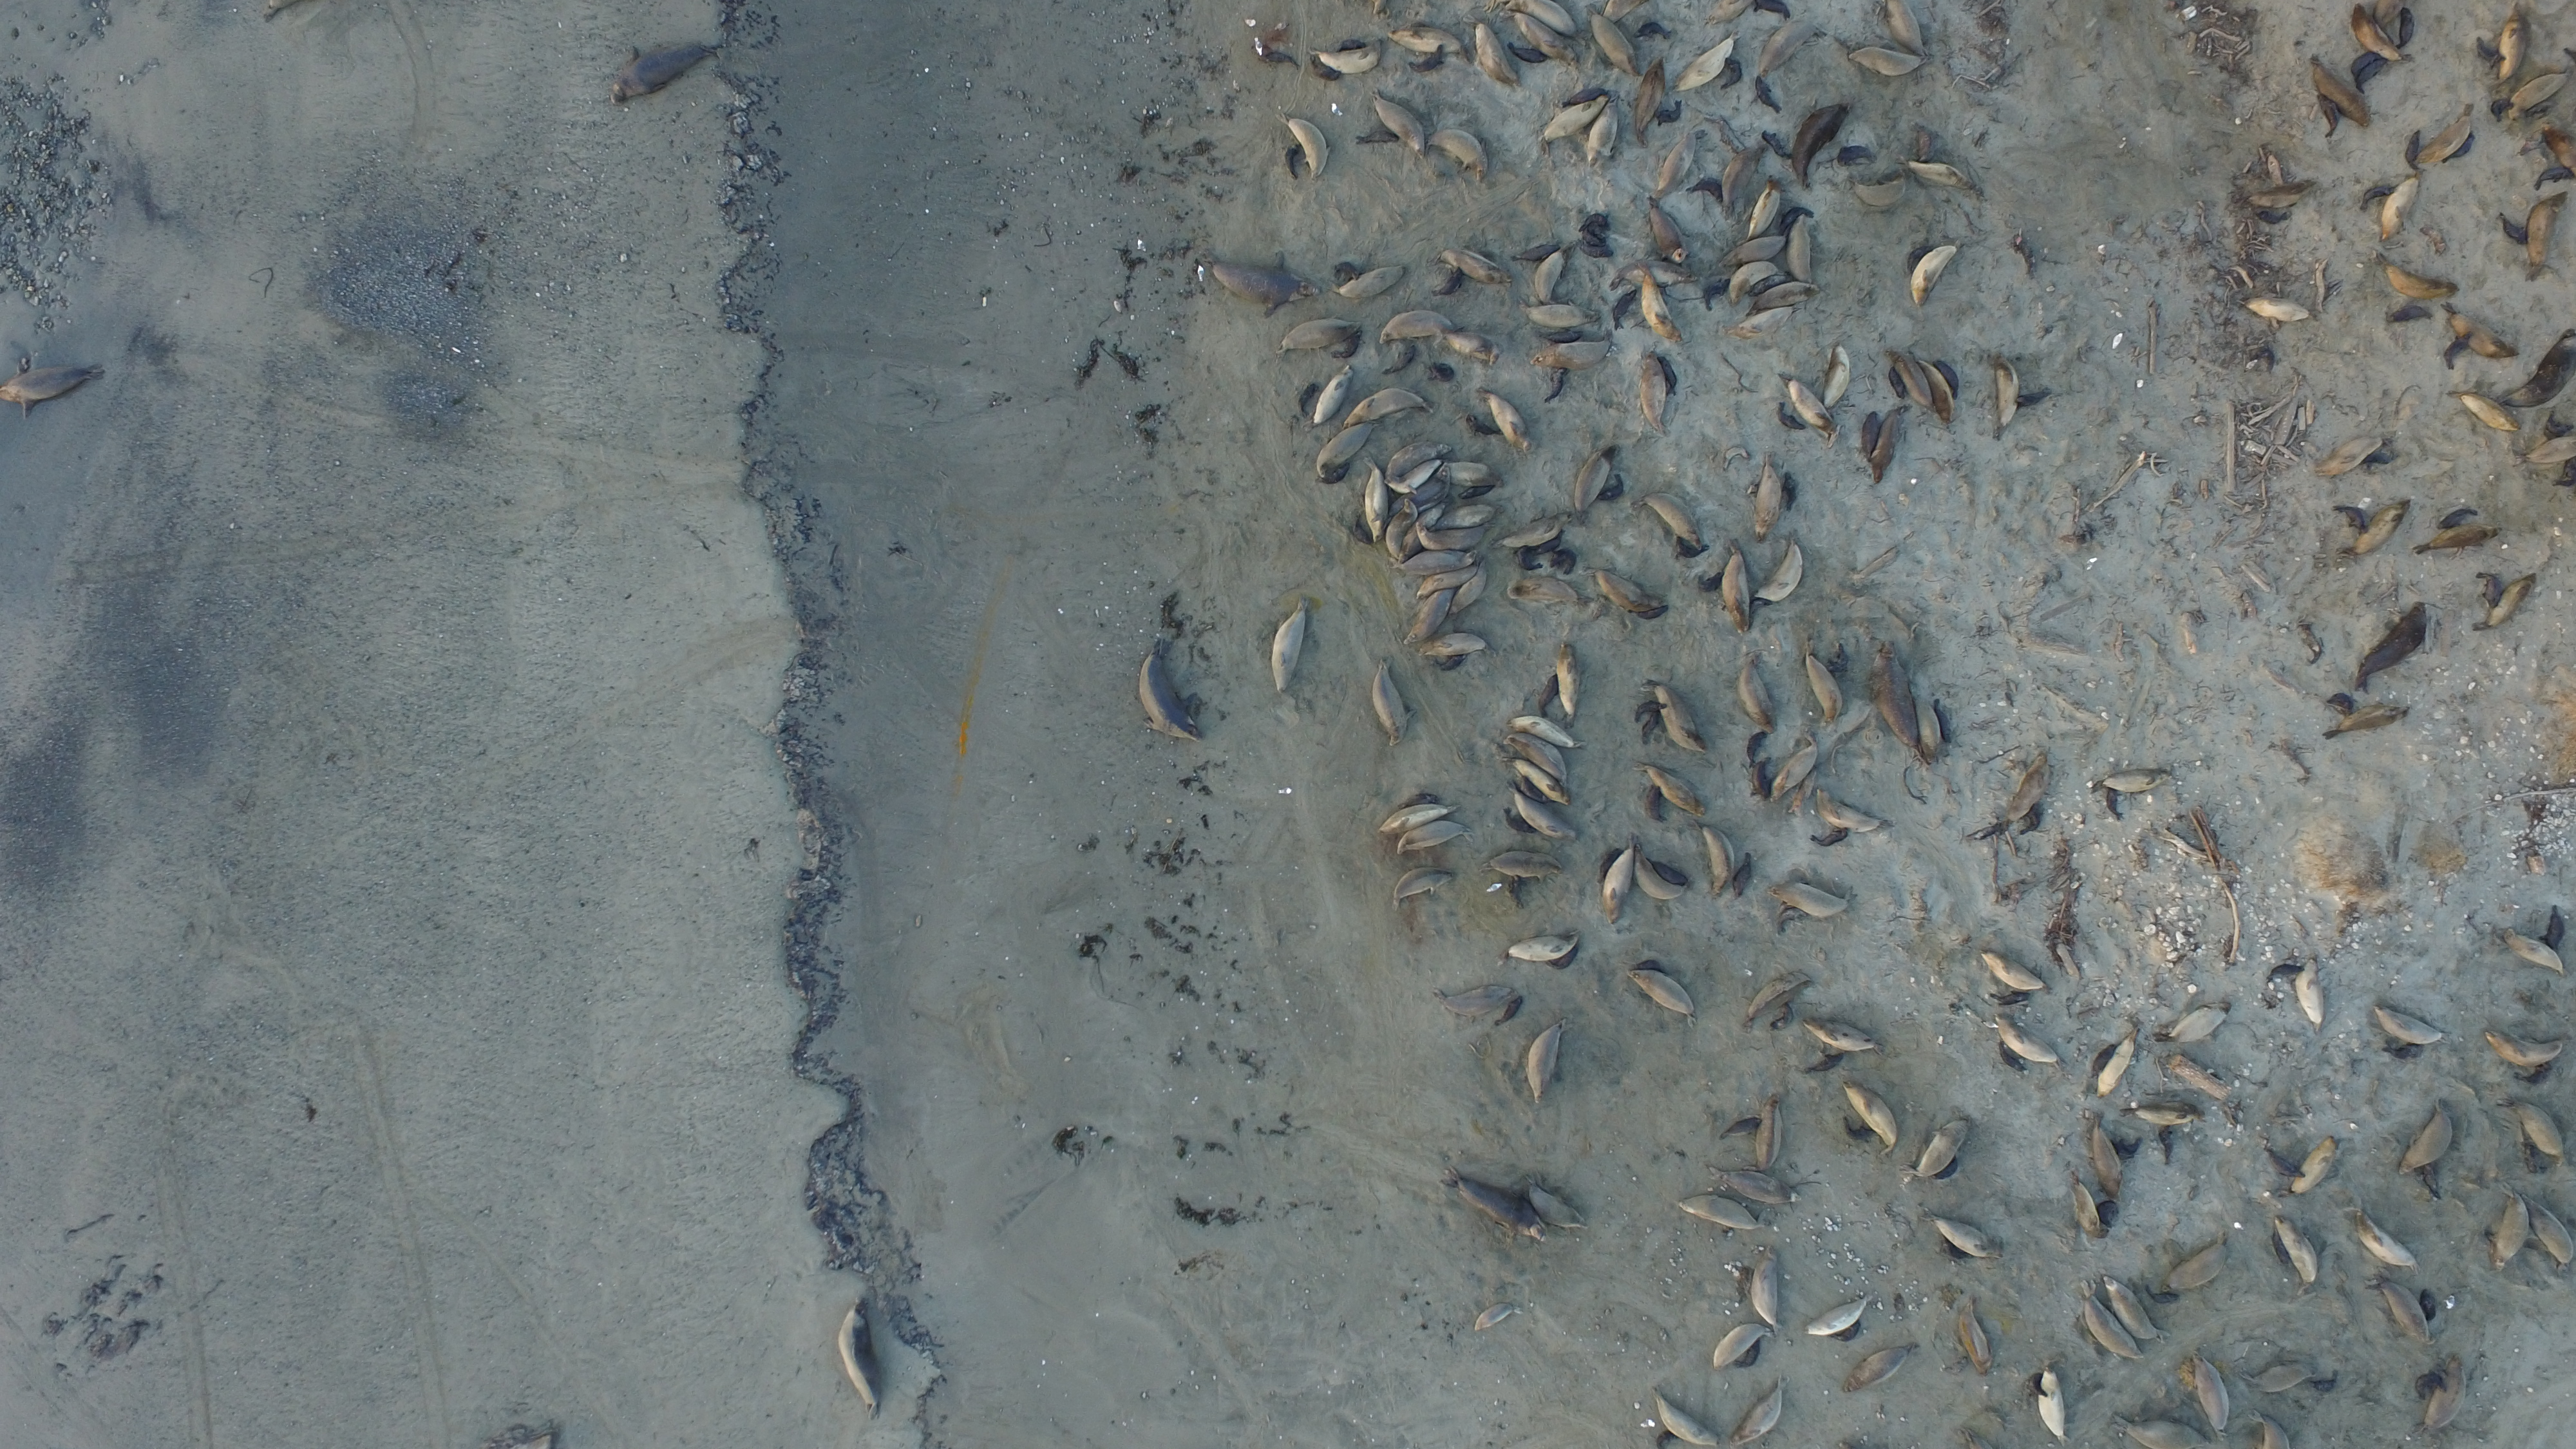adult male: (1125, 628, 1217, 755), (1435, 1164, 1548, 1249), (605, 37, 727, 108), (2350, 594, 2436, 694), (832, 1293, 895, 1428), (1203, 246, 1322, 317), (1867, 630, 1923, 764), (0, 354, 111, 421), (2503, 324, 2574, 412), (1794, 103, 1844, 189)
male juvenile / female juvenile / adult female: (2514, 1184, 2576, 1276), (2350, 1205, 2429, 1276), (2302, 51, 2373, 131), (2335, 494, 2415, 563), (2367, 249, 2463, 306), (2367, 1272, 2438, 1348), (1647, 1380, 1727, 1447), (2077, 1281, 2137, 1364), (2438, 301, 2521, 361), (2100, 1269, 2167, 1343), (2413, 1350, 2466, 1444), (2507, 1097, 2569, 1175), (2521, 188, 2569, 287), (1741, 964, 1812, 1030), (2396, 1097, 2452, 1178), (2319, 699, 2419, 745), (1270, 596, 1313, 702), (1369, 651, 1414, 752), (2473, 570, 2539, 637), (1522, 1177, 1596, 1235), (2410, 104, 2473, 172), (2162, 1231, 2233, 1292), (1840, 1341, 1920, 1394), (2480, 1023, 2569, 1070), (1674, 1196, 1773, 1238), (1730, 1376, 1792, 1444), (1661, 678, 1714, 755), (2282, 1129, 2339, 1201), (1847, 37, 1927, 88), (1624, 973, 1704, 1024), (2312, 430, 2392, 481), (2450, 386, 2525, 441), (2346, 2, 2408, 65), (2190, 1346, 2235, 1435), (1737, 649, 1783, 734), (2367, 1000, 2450, 1046), (1711, 1168, 1812, 1205), (2502, 924, 2564, 982), (2505, 67, 2569, 124), (2109, 1412, 2204, 1449), (2273, 1214, 2321, 1288), (1748, 547, 1819, 596), (2484, 1189, 2525, 1274), (2410, 524, 2507, 559), (2374, 175, 2422, 244), (1645, 203, 1695, 269), (2036, 1359, 2075, 1442), (1748, 1244, 1785, 1330), (1909, 679, 1944, 770), (1994, 1012, 2072, 1053), (1803, 1293, 1870, 1339), (1928, 1207, 2001, 1249), (1982, 945, 2054, 987), (1645, 490, 1707, 540), (2238, 1361, 2316, 1399), (1592, 570, 1667, 610), (1813, 787, 1890, 826), (2242, 179, 2321, 216), (1844, 1081, 1907, 1127), (2512, 428, 2576, 474), (1438, 127, 1493, 180), (1555, 642, 1587, 732), (1801, 1014, 1874, 1053), (2153, 1003, 2217, 1047), (1957, 1299, 1992, 1378), (1996, 750, 2052, 800), (1798, 646, 1831, 729), (1612, 262, 1707, 290), (2296, 955, 2332, 1031), (1695, 826, 1729, 906), (1711, 1322, 1771, 1366), (1898, 1120, 1946, 1175), (1911, 258, 1967, 304), (1507, 582, 1580, 617), (1764, 23, 1817, 71), (1750, 460, 1782, 540), (1642, 294, 1688, 349), (1392, 867, 1454, 908), (1477, 23, 1516, 87), (1642, 763, 1713, 796), (2542, 119, 2576, 189), (1677, 42, 1725, 92), (1399, 594, 1445, 646), (1769, 879, 1852, 908), (2496, 9, 2526, 87), (2242, 1407, 2296, 1449), (1394, 23, 1467, 55), (1484, 849, 1566, 878), (1286, 110, 1336, 156), (1525, 1021, 1552, 1106), (2088, 1120, 2116, 1200), (1495, 732, 1569, 763), (2125, 1099, 2208, 1125), (1594, 23, 1635, 76), (1352, 391, 1422, 421), (1633, 359, 1663, 430), (2065, 1169, 2095, 1240), (1488, 391, 1539, 432), (2238, 299, 2316, 326), (1378, 92, 1426, 134), (1433, 336, 1500, 366), (1504, 717, 1583, 741), (1507, 793, 1582, 819), (1762, 1097, 1787, 1177), (1596, 111, 1626, 175), (1920, 166, 1980, 198), (1990, 357, 2015, 433), (1575, 449, 1601, 520), (1821, 345, 1851, 407), (1382, 311, 1447, 340), (1854, 177, 1909, 211), (1545, 106, 1587, 149), (1389, 830, 1461, 855), (2091, 766, 2169, 789), (1447, 246, 1509, 274), (1399, 552, 1476, 575), (1723, 552, 1744, 633), (1376, 803, 1445, 828), (1500, 932, 1573, 955), (1530, 345, 1608, 366), (1782, 372, 1821, 414), (1320, 426, 1359, 469), (1633, 853, 1661, 911), (1274, 322, 1345, 345), (1336, 278, 1401, 303), (1499, 517, 1564, 541), (1366, 467, 1387, 543), (1437, 993, 1506, 1016), (1522, 28, 1580, 55), (2114, 1031, 2141, 1090), (1518, 2, 1580, 27), (1723, 149, 1753, 198), (1529, 260, 1564, 301), (1421, 525, 1483, 548), (1442, 462, 1502, 485), (1522, 306, 1598, 324), (2369, 0, 2413, 30), (1775, 743, 1801, 793), (1451, 584, 1484, 623), (1881, 2, 1925, 30), (1382, 439, 1445, 458), (1426, 633, 1490, 653), (1794, 228, 1819, 278), (1322, 368, 1345, 419), (1668, 138, 1688, 198), (1610, 869, 1628, 925), (1959, 1421, 1994, 1449), (1433, 508, 1495, 524), (1644, 65, 1656, 143), (1902, 359, 1923, 403), (1741, 318, 1782, 341), (1387, 469, 1435, 488), (1886, 419, 1900, 485), (1509, 764, 1575, 778), (1759, 182, 1778, 228), (1707, 5, 1744, 28), (1323, 55, 1384, 69), (1419, 577, 1465, 594), (1932, 372, 1948, 421), (1601, 2, 1644, 19), (1766, 297, 1821, 310), (1730, 269, 1748, 306), (1727, 246, 1776, 258), (1392, 494, 1433, 508), (1405, 517, 1419, 557), (1389, 517, 1399, 561)
pup: (1470, 1299, 1523, 1339), (1504, 771, 1553, 812), (1647, 853, 1691, 897), (1603, 285, 1640, 334), (1794, 1047, 1854, 1077), (2263, 1145, 2309, 1184), (2311, 92, 2346, 142), (1748, 73, 1785, 119), (2512, 1054, 2558, 1092), (1495, 807, 1545, 840), (2410, 1366, 2450, 1407), (1989, 1039, 2028, 1079), (2328, 499, 2371, 536), (1637, 782, 1670, 828), (2431, 499, 2479, 531), (1927, 1146, 1964, 1187), (1856, 407, 1882, 464), (1461, 410, 1504, 446), (1833, 140, 1882, 170), (2266, 1228, 2300, 1272), (1376, 345, 1422, 377), (2438, 131, 2477, 168), (2495, 211, 2532, 249), (1911, 119, 1941, 166), (1534, 667, 1560, 720), (1748, 755, 1775, 809), (1720, 1115, 1764, 1146), (1930, 697, 1959, 747), (1626, 950, 1672, 980), (1759, 126, 1794, 165), (1771, 902, 1810, 938), (1743, 272, 1794, 299), (1506, 237, 1560, 262), (1543, 950, 1591, 978), (2355, 180, 2397, 212), (1654, 352, 1684, 396), (2380, 1033, 2424, 1063), (2518, 1134, 2548, 1178), (2532, 163, 2576, 193), (1396, 787, 1445, 814), (1801, 824, 1854, 849), (2539, 902, 2564, 955), (2383, 303, 2436, 327), (1732, 1336, 1766, 1375), (2470, 570, 2503, 609), (1934, 356, 1962, 402), (1732, 849, 1755, 906), (1836, 1116, 1877, 1148), (1683, 173, 1727, 202), (1594, 472, 1629, 508), (1762, 1000, 1798, 1035), (2024, 1364, 2052, 1408), (2443, 329, 2472, 373), (1491, 994, 1525, 1031), (1559, 83, 1608, 108), (1744, 593, 1775, 633), (1451, 481, 1504, 504), (2008, 387, 2061, 410), (1407, 44, 1449, 73), (1311, 464, 1353, 492), (1780, 203, 1815, 237), (1431, 267, 1467, 301), (1506, 41, 1553, 65), (1545, 363, 1569, 410), (1776, 465, 1801, 513), (1670, 533, 1707, 564), (2472, 34, 2503, 71), (2417, 225, 2449, 262), (1598, 846, 1626, 886), (2143, 1281, 2183, 1309), (2420, 1161, 2445, 1207), (1937, 1235, 1969, 1270), (1700, 276, 1730, 313), (1980, 991, 2036, 1010), (1828, 1318, 1867, 1346), (1571, 237, 1619, 260), (1714, 55, 1744, 90), (2357, 57, 2387, 92), (1626, 21, 1679, 41), (2088, 1040, 2114, 1079), (2254, 207, 2298, 230), (1332, 327, 1364, 359), (2323, 688, 2355, 720), (1773, 407, 1808, 435), (1746, 0, 1798, 19), (1651, 99, 1688, 126), (2420, 1283, 2442, 1329), (2396, 5, 2417, 51), (1884, 364, 1909, 403), (2097, 1194, 2121, 1233), (1628, 603, 1675, 623), (1348, 513, 1373, 550), (1433, 653, 1470, 678), (1631, 695, 1668, 720), (1905, 241, 1936, 271), (1550, 547, 1578, 579), (1695, 573, 1727, 602), (2155, 1122, 2176, 1164), (1355, 131, 1401, 150), (2102, 786, 2125, 824), (2362, 446, 2401, 469), (2553, 455, 2576, 494), (2022, 807, 2047, 842), (2525, 97, 2560, 122), (1279, 149, 1302, 186), (1295, 379, 1318, 416), (1426, 359, 1458, 386), (1332, 257, 1366, 281), (2268, 961, 2302, 985), (1744, 727, 1766, 766), (2403, 129, 2422, 172), (1640, 709, 1663, 745), (2109, 1139, 2137, 1168), (1651, 1422, 1681, 1449), (1514, 543, 1539, 575), (1309, 58, 1338, 85), (1575, 223, 1605, 248), (1532, 331, 1591, 343), (2488, 99, 2514, 126), (2312, 1373, 2341, 1398), (1263, 48, 1295, 69), (2350, 46, 2374, 73), (1532, 536, 1566, 556), (2542, 414, 2572, 435), (1582, 207, 1608, 226), (2535, 425, 2562, 444), (2121, 1134, 2144, 1154), (1591, 223, 1612, 241), (1339, 39, 1369, 51)
